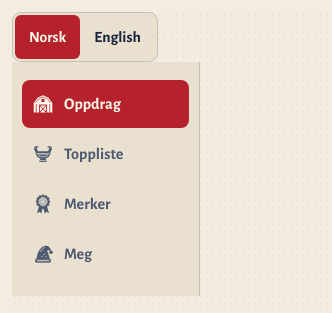
Scenario: AppNav › follows the language
Step 1. Click the button "English" → click(118, 37), box top-left (80, 15), bottom-right (155, 59)
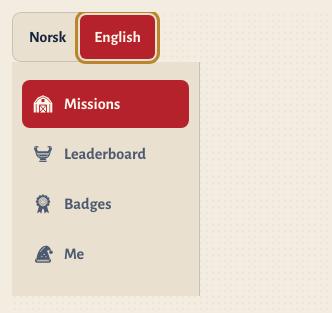
Expected: the link "Missions" is shown, top-left (22, 80), bottom-right (189, 128)
